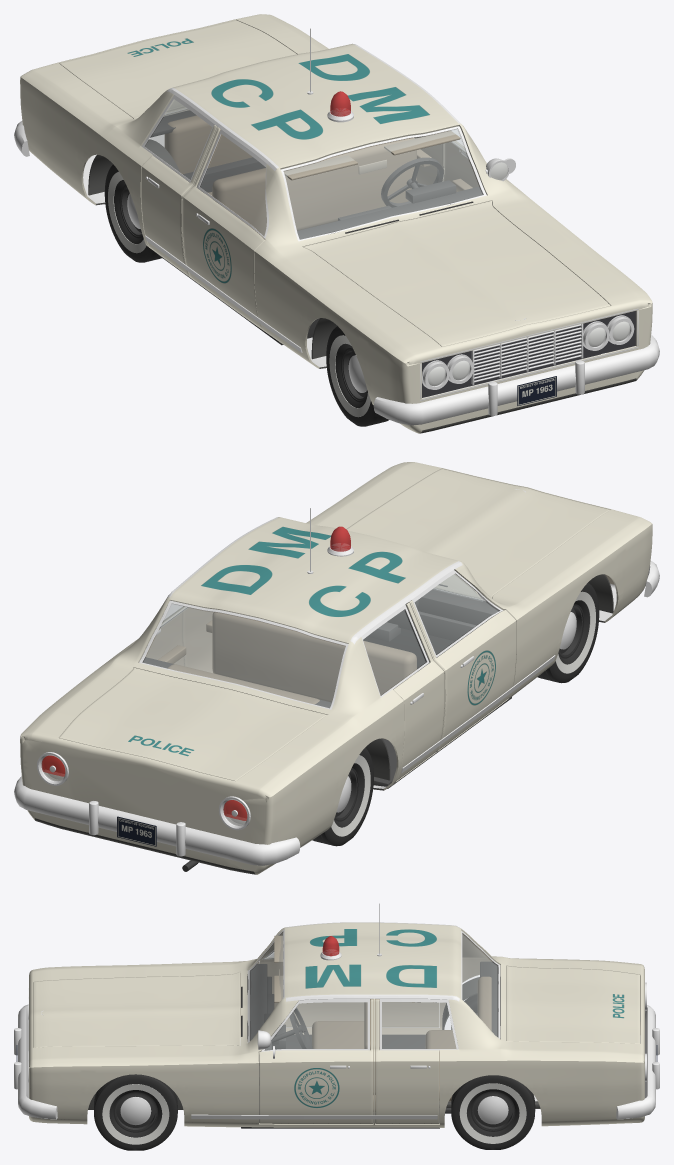
File: SM_V01_PatrolSedan_MPDC.glb
3 renders of one model, top to bottom at view 1: azimuth 30°, elevation 25°; view 2: azimuth 150°, elevation 25°; view 3: azimuth 270°, elevation 25°, orthographic. The views are drawn at different scales.
Visible parts, largest first — view 1: BODY, HOOD, GLASS_WINDSHIELD, TRUNK, INT_SEAT_FRONT, DOOR_FR, BUMPER_FRONT, GRILLE_BARS, POLICE_DECAL_ROOF_ID, DOOR_RR, GLASS_DOOR_FR, GRILLE_BACK (+19 smaller); view 2: BODY, TRUNK, HOOD, GLASS_REAR, INT_SEAT_FRONT, DOOR_FR, BUMPER_REAR, DOOR_RR, POLICE_DECAL_ROOF_ID, GLASS_DOOR_FR, INT_DASH, GLASS_DOOR_RR (+16 smaller); view 3: BODY, HOOD, TRUNK, DOOR_FL, WHEEL_FL, WHEEL_RL, DOOR_RL, GLASS_DOOR_FL, GLASS_DOOR_RL, POLICE_DECAL_ROOF_ID, GLASS_REAR, INT_FLOOR (+17 smaller).
Boxes of the visible parts, x1,y1,x2,y2 form: BODY: (20, 14, 652, 433); HOOD: (303, 200, 610, 346); GLASS_WINDSHIELD: (284, 129, 482, 239); TRUNK: (59, 20, 296, 118); INT_SEAT_FRONT: (212, 137, 416, 239); DOOR_FR: (182, 127, 265, 328); BUMPER_FRONT: (373, 334, 659, 425); GRILLE_BARS: (420, 308, 638, 400); POLICE_DECAL_ROOF_ID: (211, 54, 429, 139); DOOR_RR: (141, 125, 216, 275); GLASS_DOOR_FR: (201, 135, 266, 235); GRILLE_BACK: (422, 311, 635, 397); BODY: (20, 462, 652, 874); TRUNK: (59, 667, 327, 781); HOOD: (347, 468, 610, 597); GLASS_REAR: (143, 604, 345, 707); INT_SEAT_FRONT: (212, 612, 416, 739); DOOR_FR: (410, 600, 516, 750); BUMPER_REAR: (14, 776, 300, 865); DOOR_RR: (393, 602, 444, 780); POLICE_DECAL_ROOF_ID: (201, 527, 405, 616); GLASS_DOOR_FR: (415, 574, 498, 654); INT_DASH: (387, 589, 499, 641); GLASS_DOOR_RR: (363, 610, 425, 694); BODY: (29, 922, 644, 1127); HOOD: (33, 972, 240, 1047); TRUNK: (506, 965, 640, 1043); DOOR_FL: (259, 999, 373, 1123); WHEEL_FL: (94, 1074, 177, 1150); WHEEL_RL: (451, 1075, 535, 1149); DOOR_RL: (375, 999, 439, 1123); GLASS_DOOR_FL: (265, 1002, 367, 1050); GLASS_DOOR_RL: (382, 1002, 455, 1048); POLICE_DECAL_ROOF_ID: (305, 929, 436, 988); GLASS_REAR: (462, 934, 497, 1036); INT_FLOOR: (241, 961, 498, 1128).
Size of what is drawn, in the model's own units: 2.17 by 1.9 by 5.46.
Materials: 19 (4 with a texture image).
